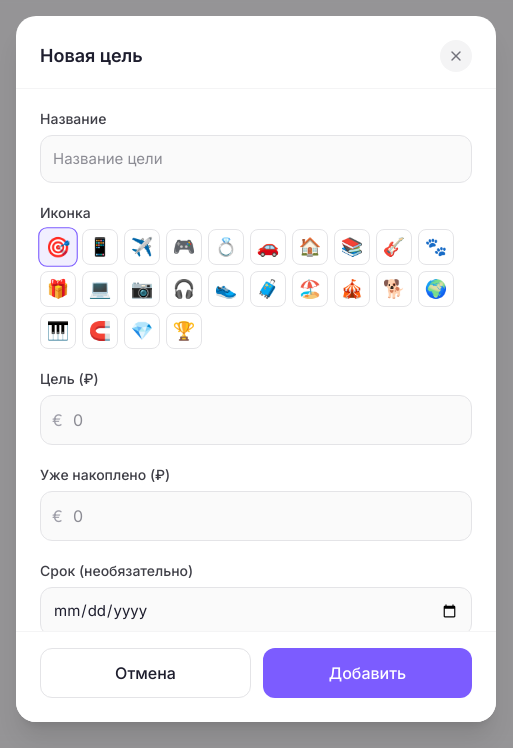
Test case: AddGoalModal › should clear deadline when clear button is clicked
In the date field: (256, 611) [40,587,472,636], type "2026-12-31"
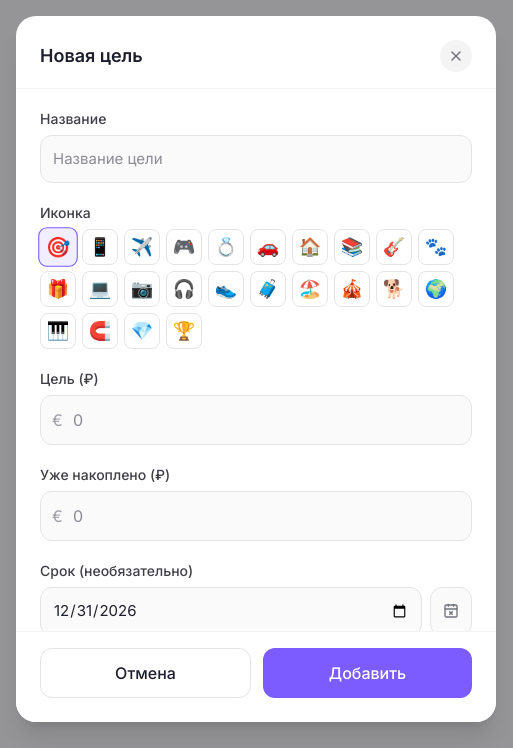
Click the button titled "Очистить дату": (451, 611) [430,587,472,636]
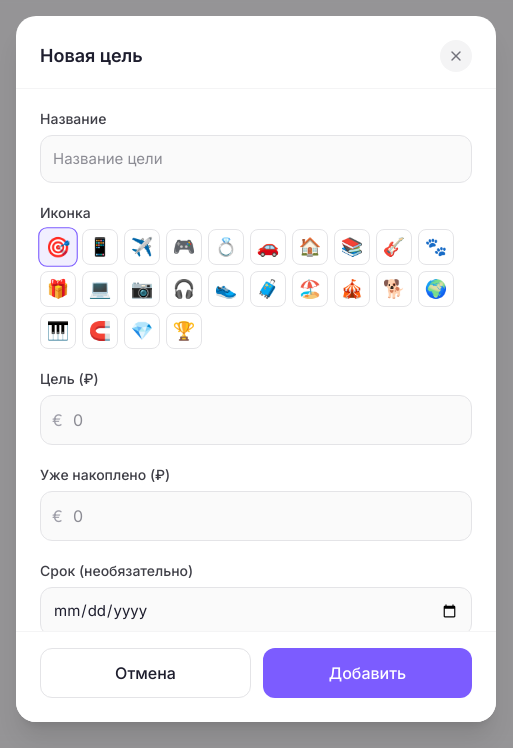
Now the date field is empty, box [40,587,472,631]
